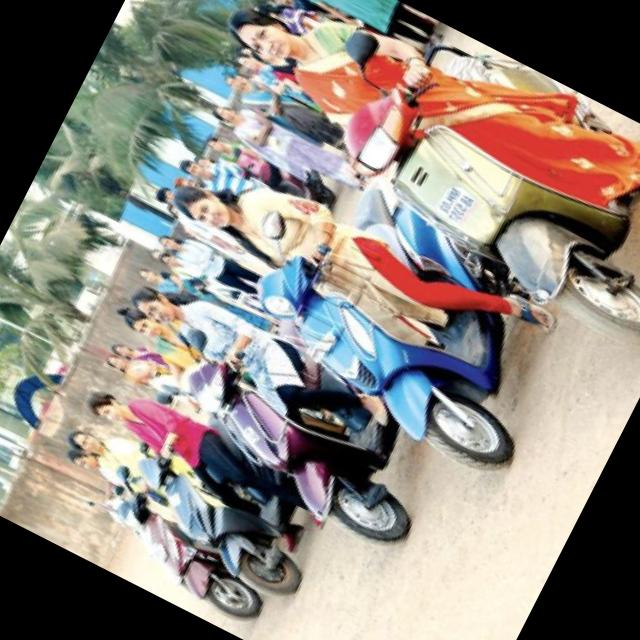bareface: (147, 162, 259, 252), (206, 0, 321, 87), (114, 273, 206, 348), (70, 379, 146, 440)
